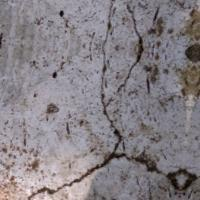crack: (18, 3, 185, 199)
